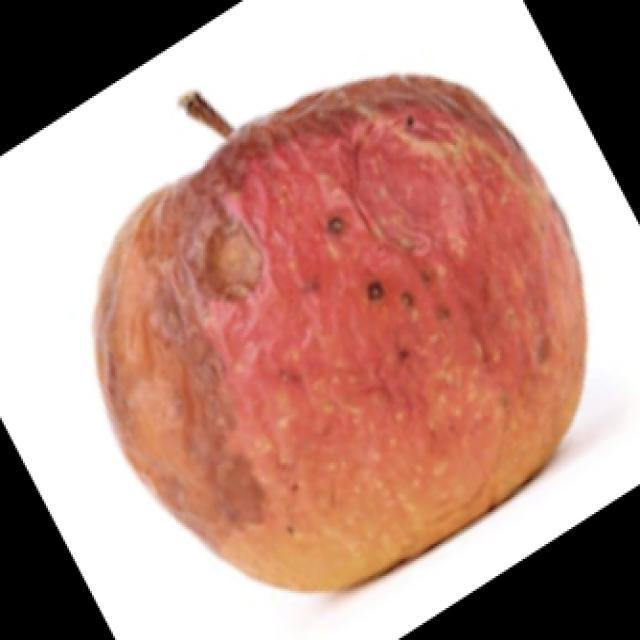Rotten: (95, 75, 570, 560)
